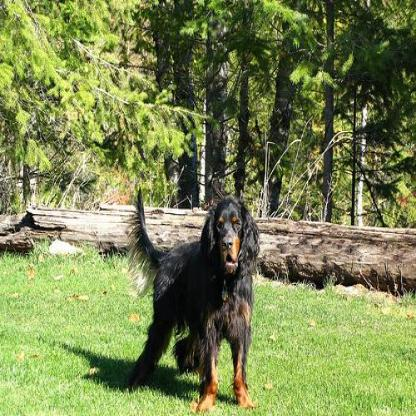Gordon_setter: (128, 184, 260, 414)
